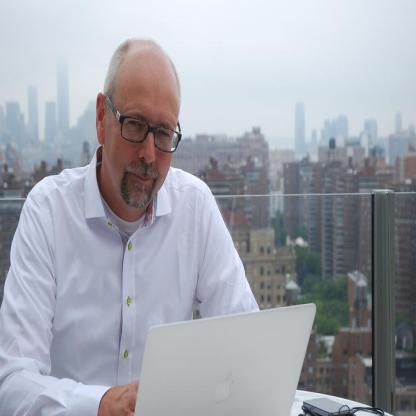board: (135, 305, 312, 412)
